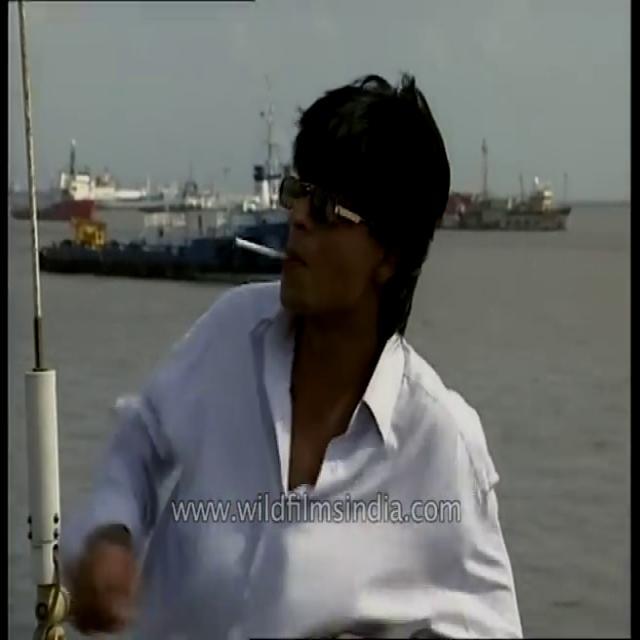Smooking: (224, 228, 288, 266)
